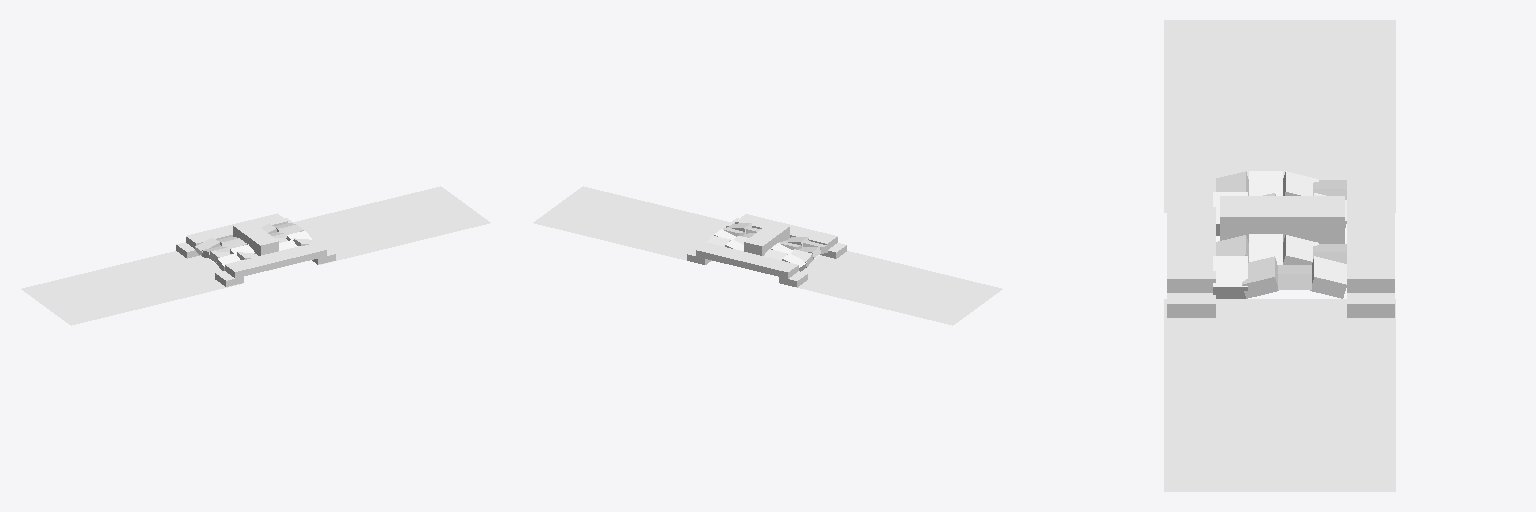
The robot description file, URDF, robot "chair":
<robot name="chair">
  <link name="base_link">
    <visual>
      <origin xyz="0 0 0" rpy="0 0 0" />
      <geometry>
        <mesh filename="package://hpp-rbprm-corba/meshes/darpa_no_ctc_mid.stl"/>
      </geometry>
      <material name="white">
        <color rgba="1 1 1 1"/>
      </material>
    </visual>
    <collision>
      <origin xyz="0 0 0" rpy="0 0 0" />
      <geometry>
        <mesh filename="package://hpp-rbprm-corba/meshes/darpa_no_ctc_mid.stl"/>
      </geometry>
    </collision>
  </link>
</robot>

--- Render facts (derived) ---
Views: 3 orthographic renders of the robot side by side, from view 1: azimuth 30°, elevation 25°; view 2: azimuth 150°, elevation 25°; view 3: azimuth 270°, elevation 25°.
Robot: chair — 1 links, 0 joints (none); root link base_link; default pose: every joint at zero.
Visible links, largest first — view 1: base_link; view 2: base_link; view 3: base_link.
Link boxes in pixels (x1,y1,x2,y2): base_link: (21,186,490,325); base_link: (533,186,1002,325); base_link: (1164,20,1395,491).
Bounding box of the posed robot: 6.87 × 1.42 × 0.342 m (x, y, z).
Meshes: 1 distinct files referenced, 1 mesh visuals loaded (1 binary STL).